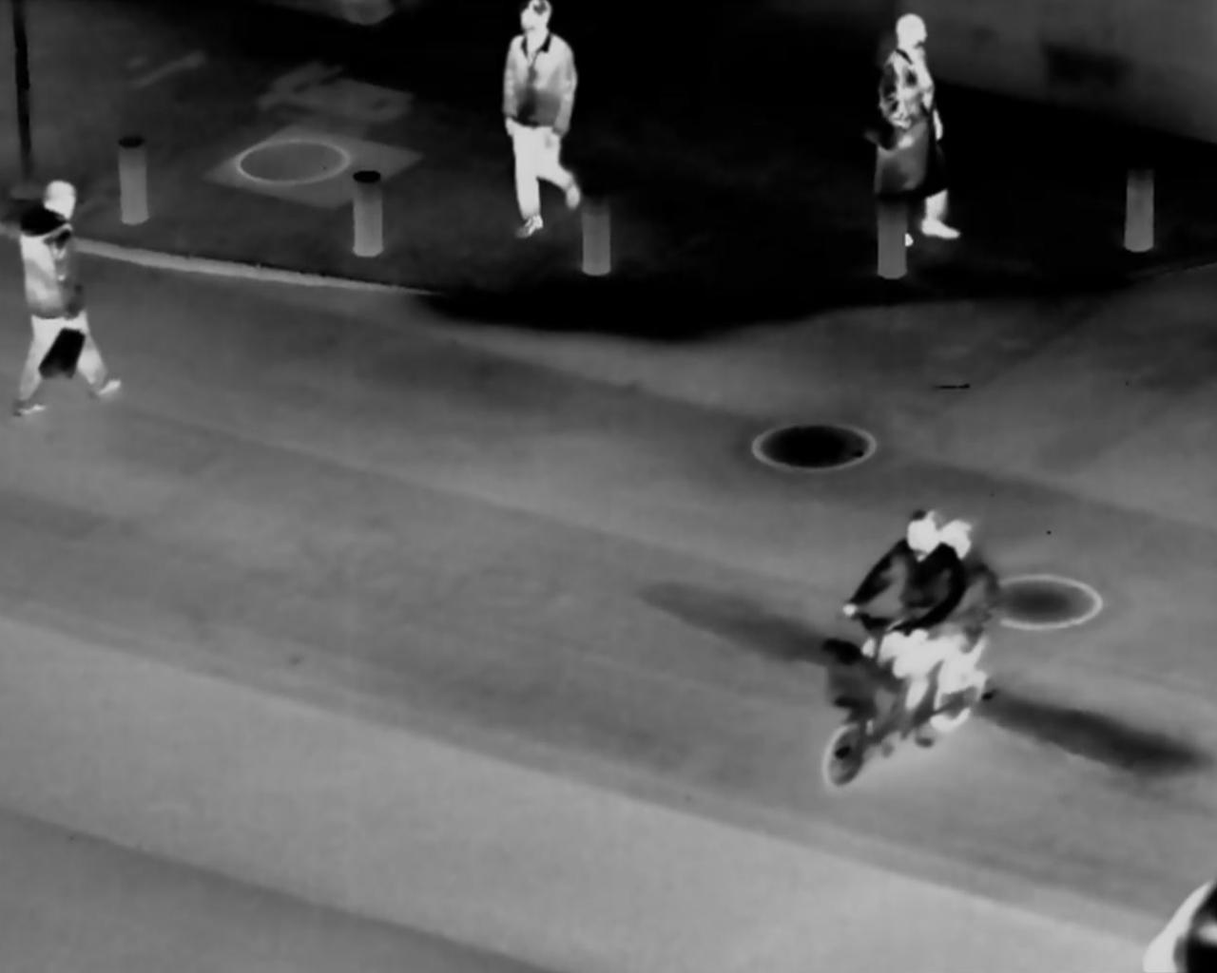person: (843, 486, 960, 722), (861, 9, 973, 251), (19, 174, 127, 416), (495, 5, 592, 238), (926, 516, 1006, 746)
